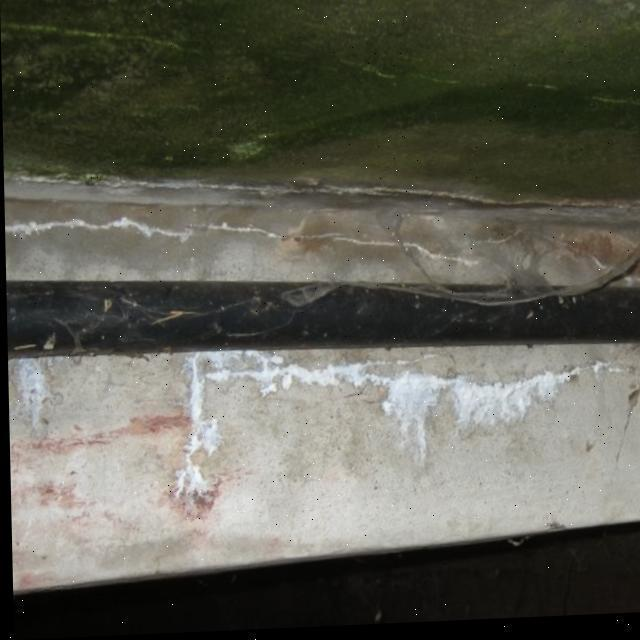D01: (178, 350, 577, 488), (10, 358, 49, 425)
